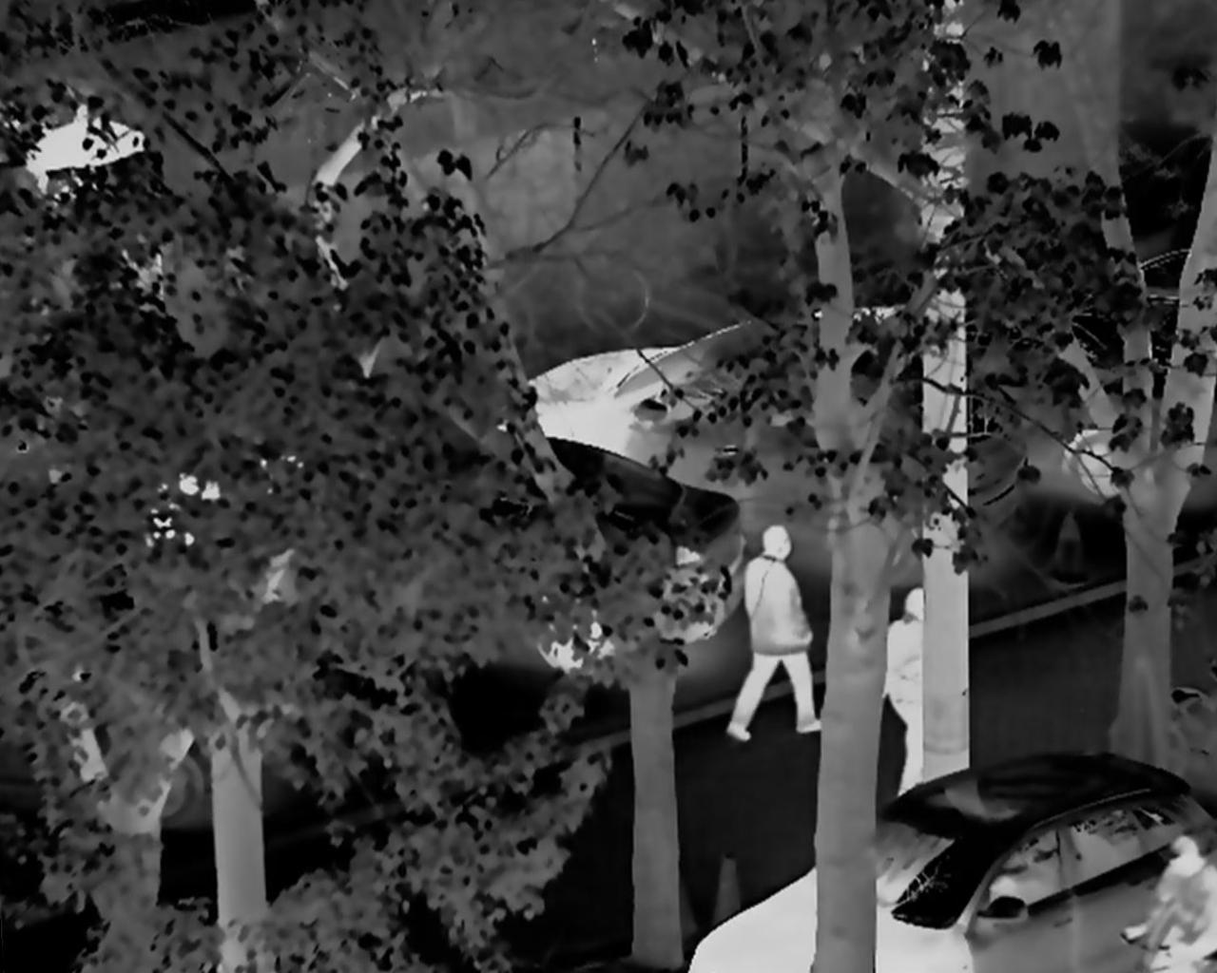person: (723, 509, 822, 754), (872, 561, 938, 799), (1137, 834, 1215, 968)
